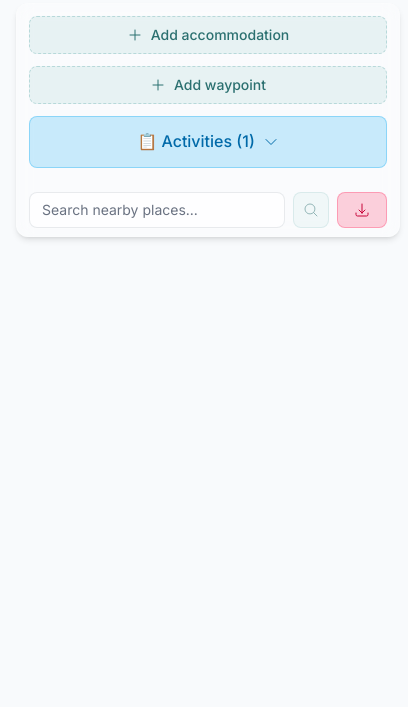
Scenario: ActivitiesPanel todo chips › prefers a ready todo to an upcoming one
Click the button "📋 Activities (1)" at (208, 142), box x1=29 y1=116 x2=387 y2=168
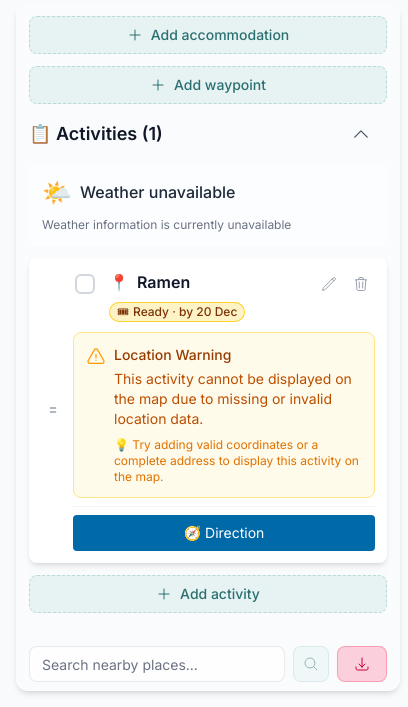
Now the text "Ready · by 20 Dec" is shown, box x1=133 y1=304 x2=237 y2=319
